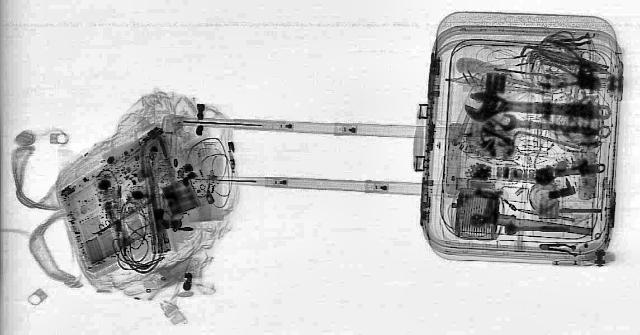Pliers: (530, 39, 622, 81)
Wrench: (458, 90, 616, 130), (490, 112, 612, 140)
